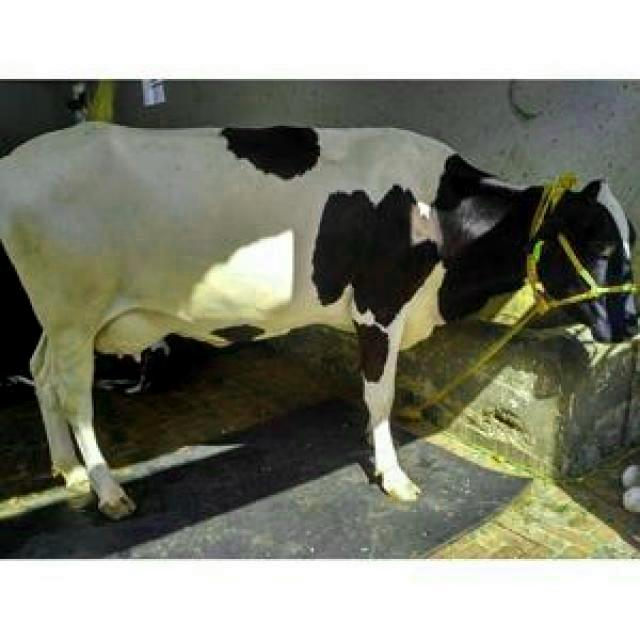COW: (0, 122, 635, 518)
